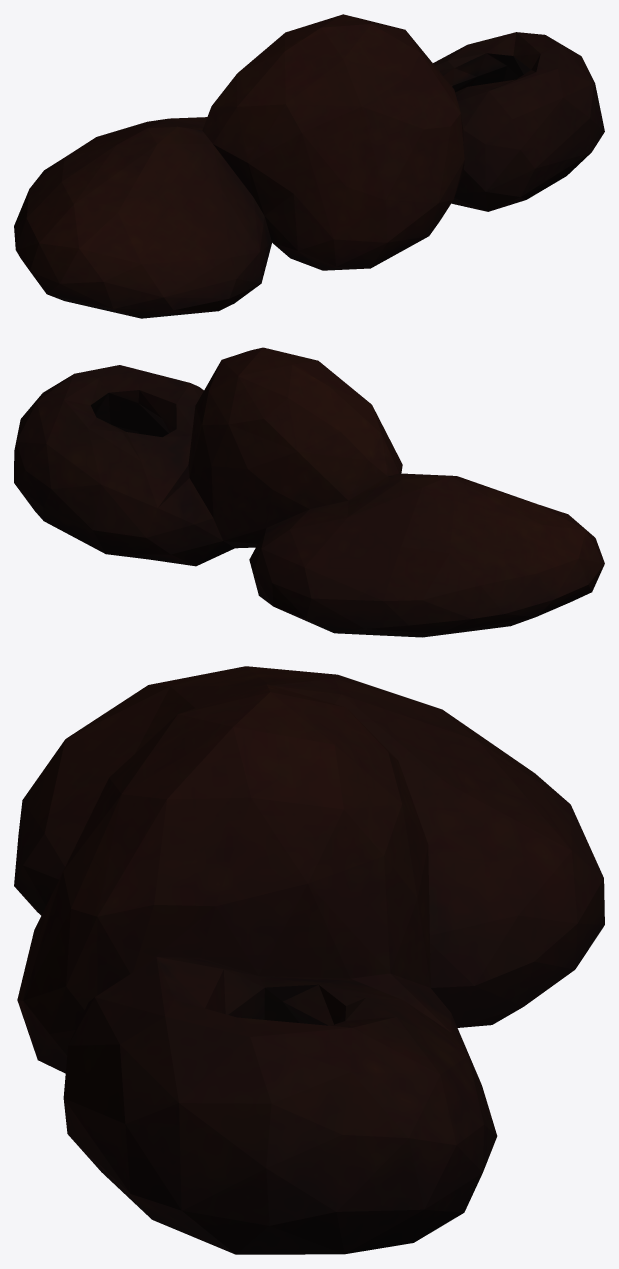
3 views of the same model, one above another, from view 1: azimuth 30°, elevation 25°; view 2: azimuth 150°, elevation 25°; view 3: azimuth 270°, elevation 25° (orthographic). The views are drawn at different scales.
Parts seen in each view (by area): view 1: geometry_0.036_Baked; view 2: geometry_0.036_Baked; view 3: geometry_0.036_Baked.
Part boxes in pixels (x1,y1,x2,y2): geometry_0.036_Baked: [14, 14, 604, 318]; geometry_0.036_Baked: [14, 347, 604, 637]; geometry_0.036_Baked: [14, 666, 604, 1254].
Bounding box in the file's own units: 17.11 × 5.95 × 8.15.
